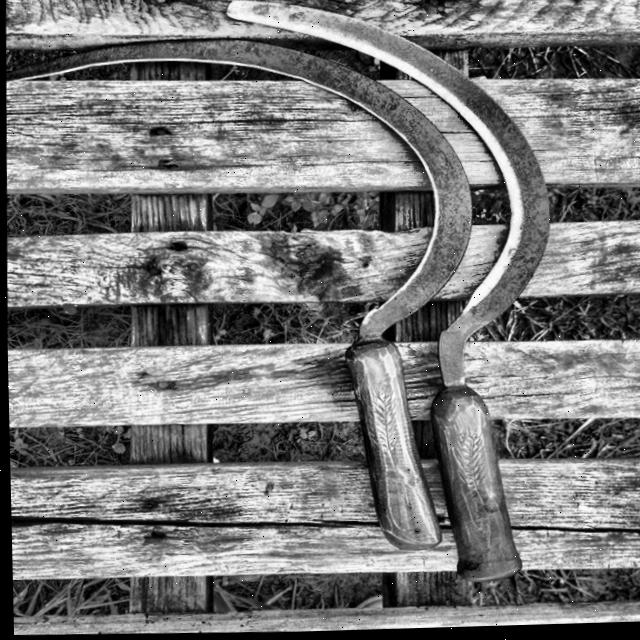celurit: (6, 26, 495, 554)
